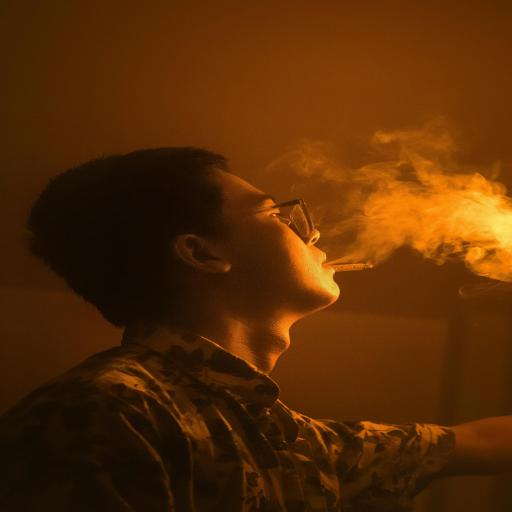terdeteksi merokok: (228, 171, 397, 329)
